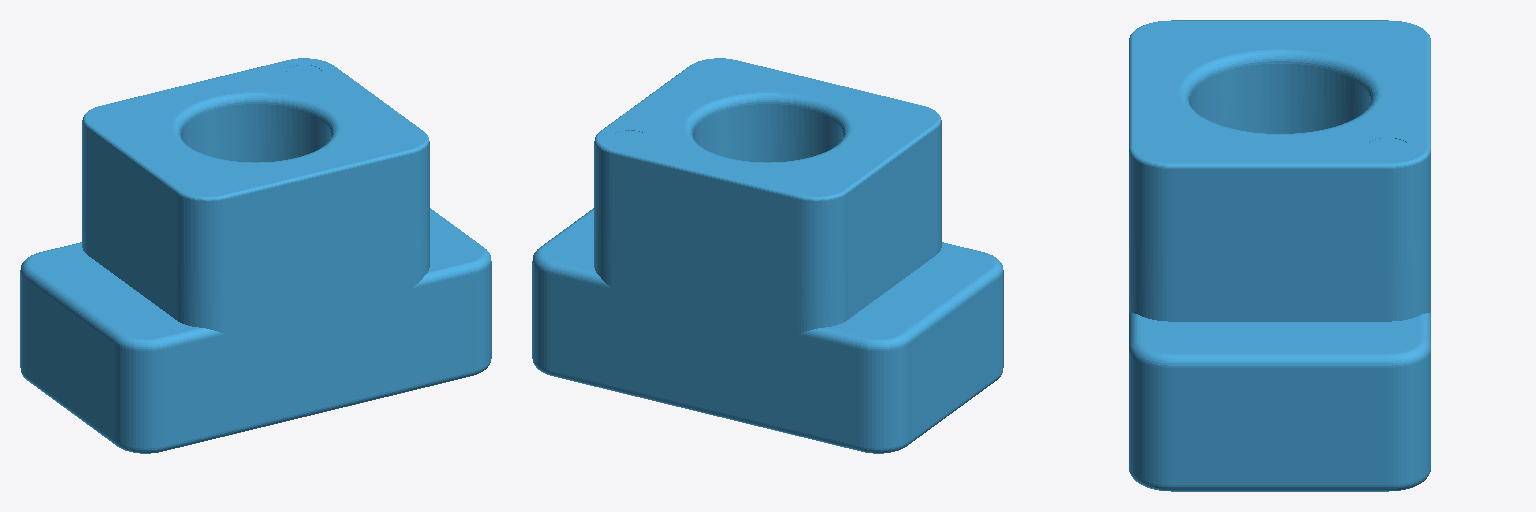
The robot description file, URDF, robot "madara_pad":
<?xml version="1.0"?>
<!-- -->
<robot name="madara_pad">
    <link name="world"/>
    <link name="madara_pad_link">
        <inertial>
            <mass value="0.01" />
            <origin xyz="0.000 0 0" rpy="0 0 0" />
            <inertia ixx="1.0" ixy="0" ixz="0" iyy="1.0" iyz="0" izz="1.0" />
        </inertial>
        <visual>
            <origin xyz="0 0 0" rpy="0 0 0" />
            <geometry>
                <mesh filename="madara_pad.stl"/>
            </geometry>
        </visual>
          <collision>
            <origin xyz="0.00 0 0" rpy="0 -0 0" />
            <geometry>
                <mesh filename="madara_pad.stl"/>
            </geometry>
        </collision> 
    </link>
    <joint name="madara_pad_joint" type="fixed">
        <origin xyz="0 0.0 0.0" rpy="0 0 0" />
        <parent link="world" />
        <child link="madara_pad_link" />
    </joint>
</robot>

--- Facts derived from the render (not from the file) ---
3 views of the same robot in one strip: view 1: azimuth 30°, elevation 25°; view 2: azimuth 150°, elevation 25°; view 3: azimuth 270°, elevation 25° (orthographic).
Model madara_pad with 2 links and 1 joints (1 fixed), rooted at world, posed every joint at zero.
Links seen in each view (by area): view 1: madara_pad_link; view 2: madara_pad_link; view 3: madara_pad_link.
Link boxes in pixels (bbox=[...]): madara_pad_link: bbox=[20, 58, 491, 453]; madara_pad_link: bbox=[532, 58, 1003, 453]; madara_pad_link: bbox=[1129, 20, 1430, 491].
Size in the robot's own frame: 0.12 by 0.07 by 0.075 metres.
1 mesh visuals loaded from 1 distinct referenced files (1 binary STL).
